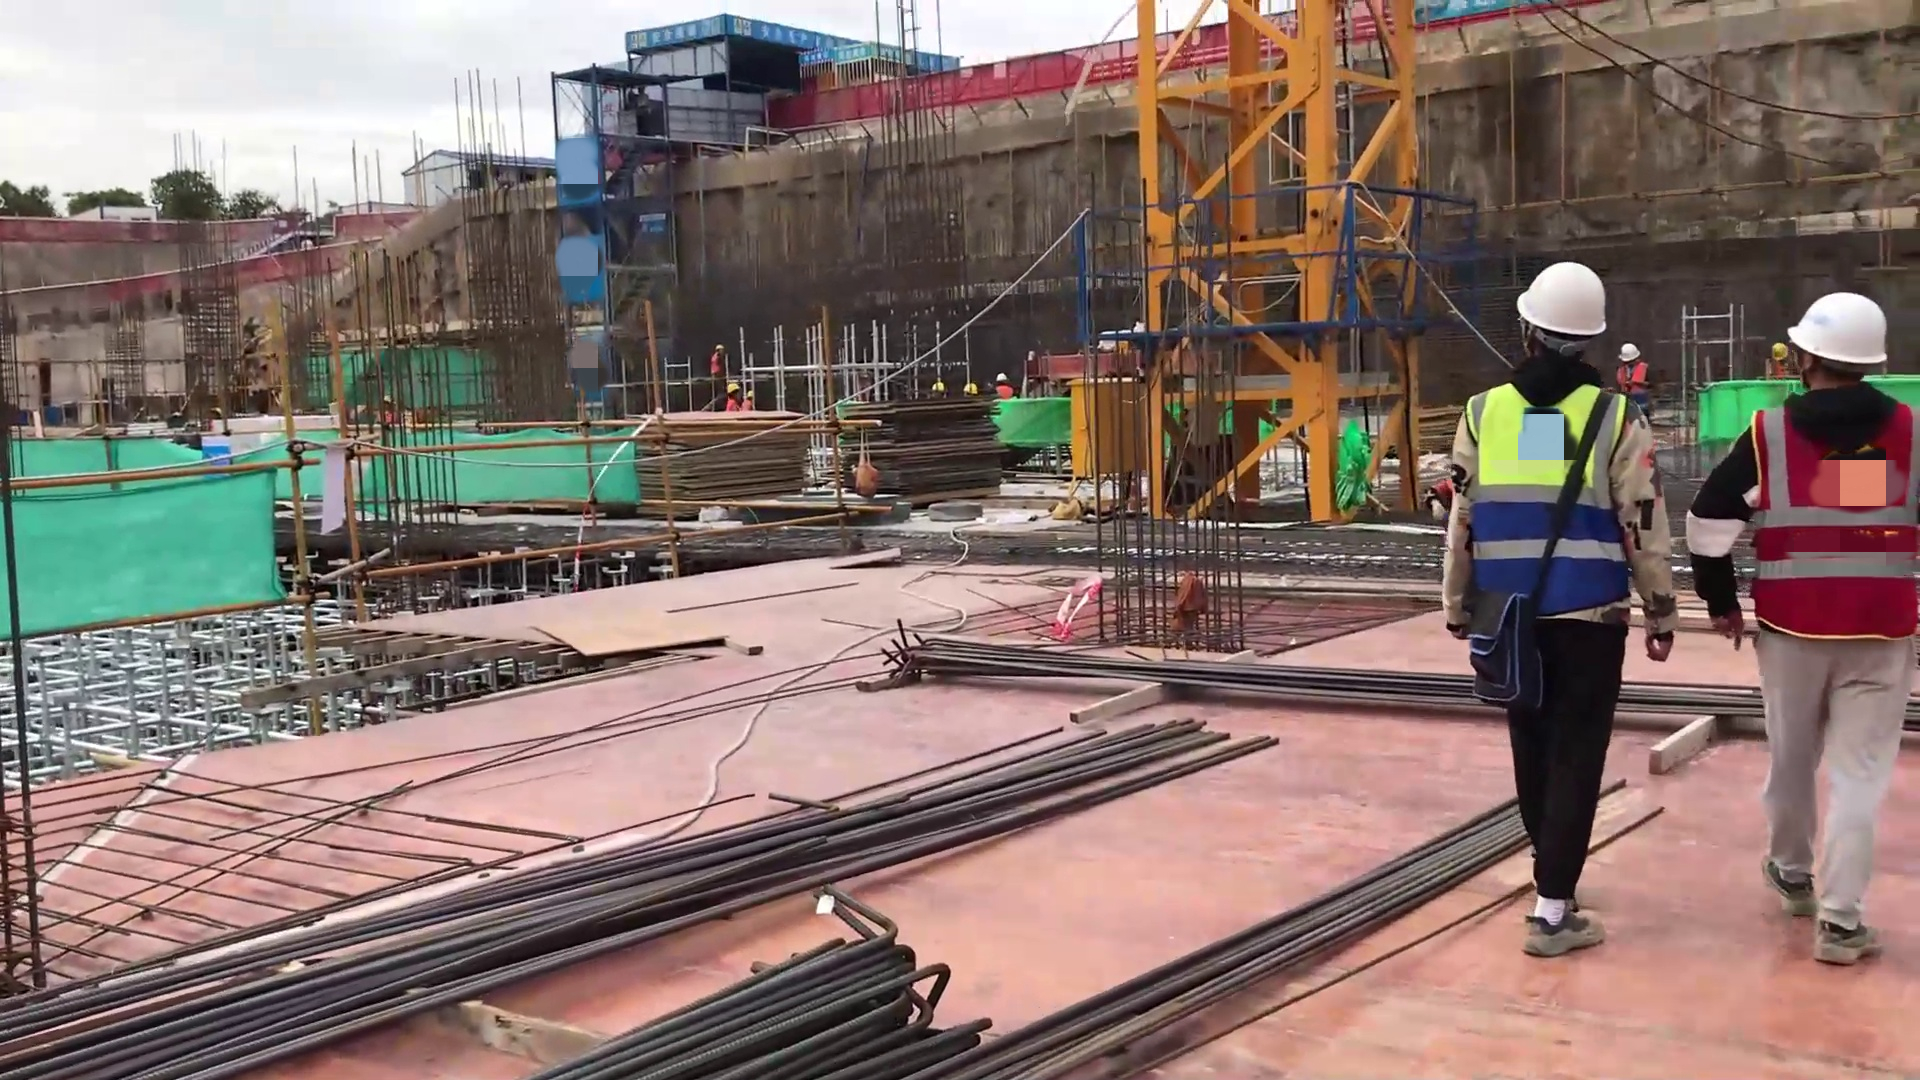board: (639, 412, 809, 499)
ebox: (1065, 376, 1146, 512)
helmet: (1788, 292, 1889, 365), (1515, 259, 1608, 337), (1618, 343, 1641, 363), (1771, 342, 1791, 362), (727, 383, 740, 394), (997, 374, 1006, 381)
person: (1437, 256, 1684, 971), (1682, 286, 1917, 975), (1615, 342, 1651, 418), (707, 343, 725, 409), (993, 371, 1016, 400), (724, 382, 741, 412)
rebar: (1, 713, 1202, 1080), (527, 933, 921, 1080)
vest: (1748, 404, 1920, 638), (1466, 379, 1630, 622), (1615, 363, 1650, 413), (710, 353, 723, 374), (995, 386, 1013, 400), (725, 400, 740, 412)
